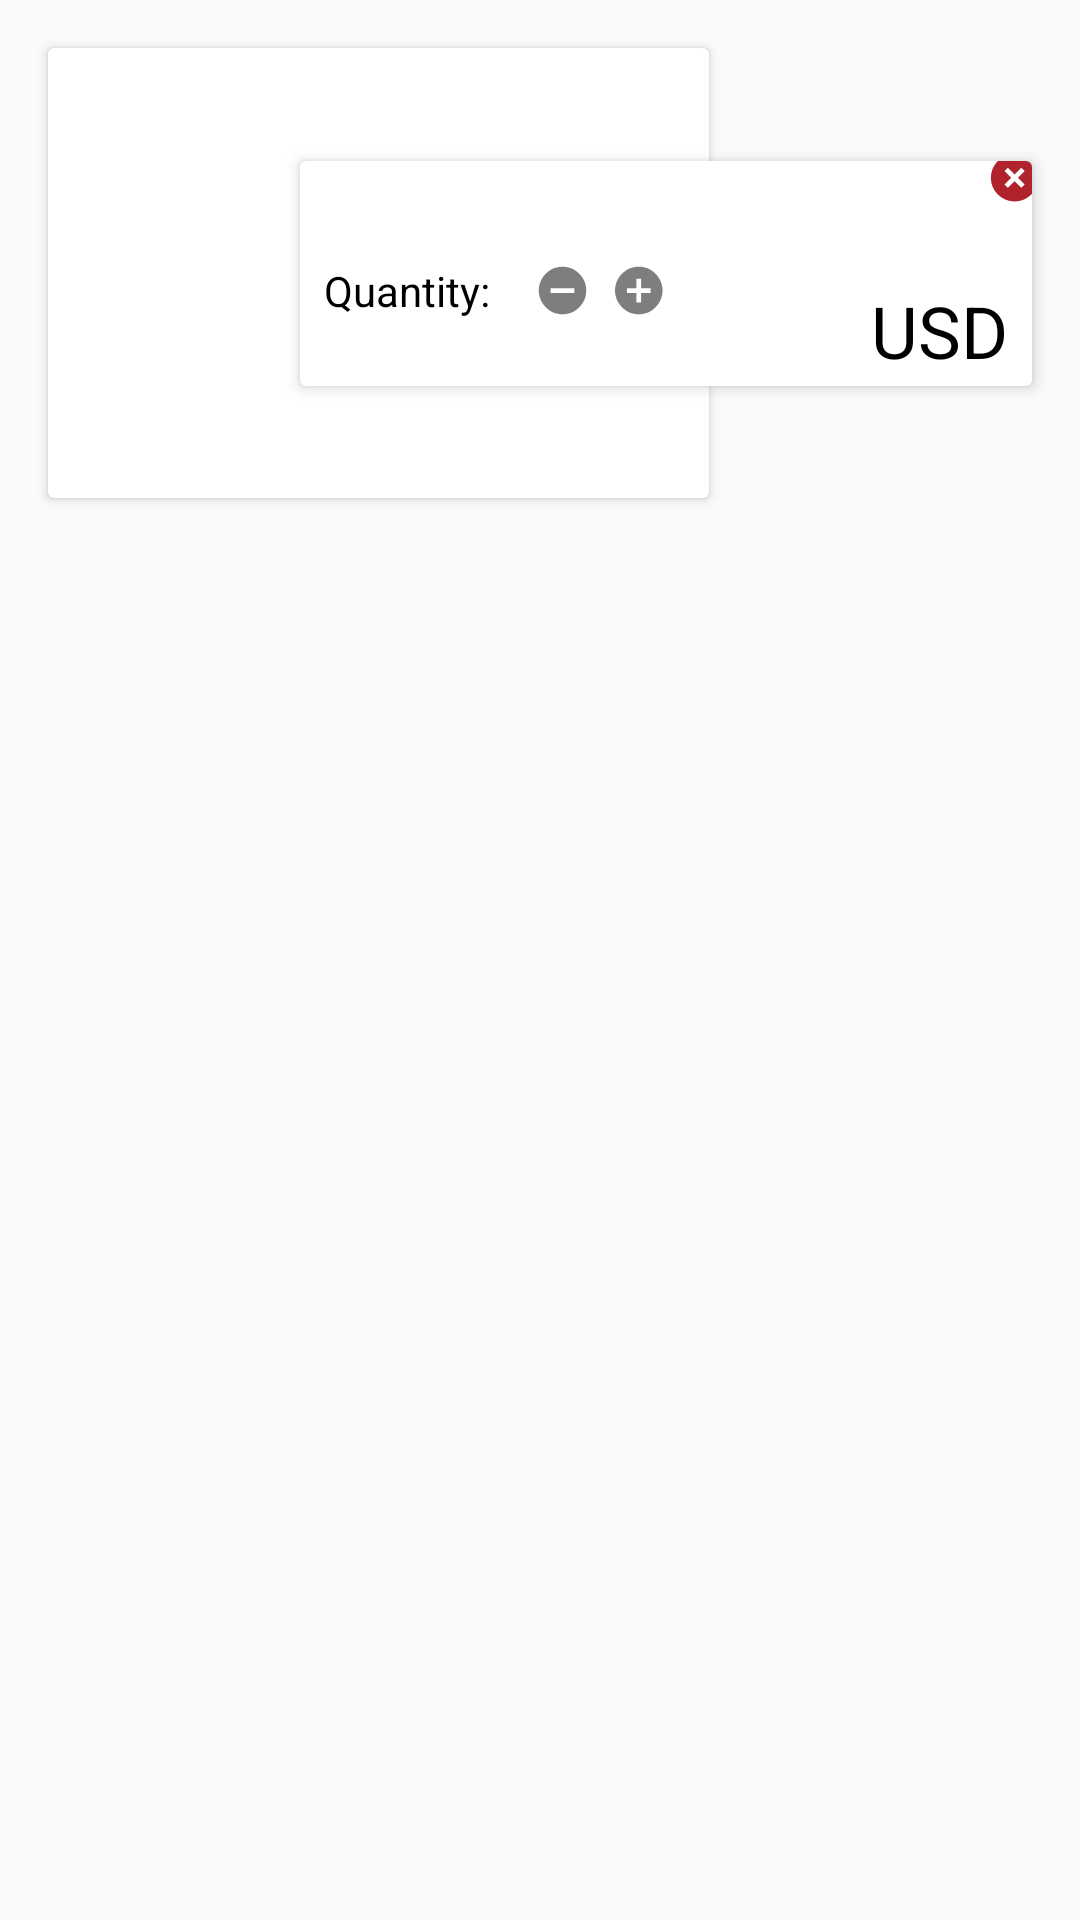

Icons on this 1080×1920 Android screen, each with its box as [x1=x1, y1=y1, x2=x2, y2=y2]:
decrease: [x1=538, y1=266, x2=587, y2=315]
increase: [x1=615, y1=266, x2=663, y2=315]
